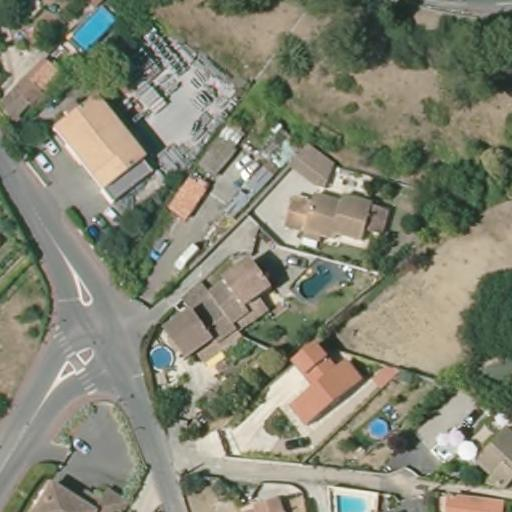pool: (70, 3, 118, 53), (292, 258, 336, 301), (141, 337, 176, 375), (329, 483, 374, 511), (362, 412, 392, 443)
